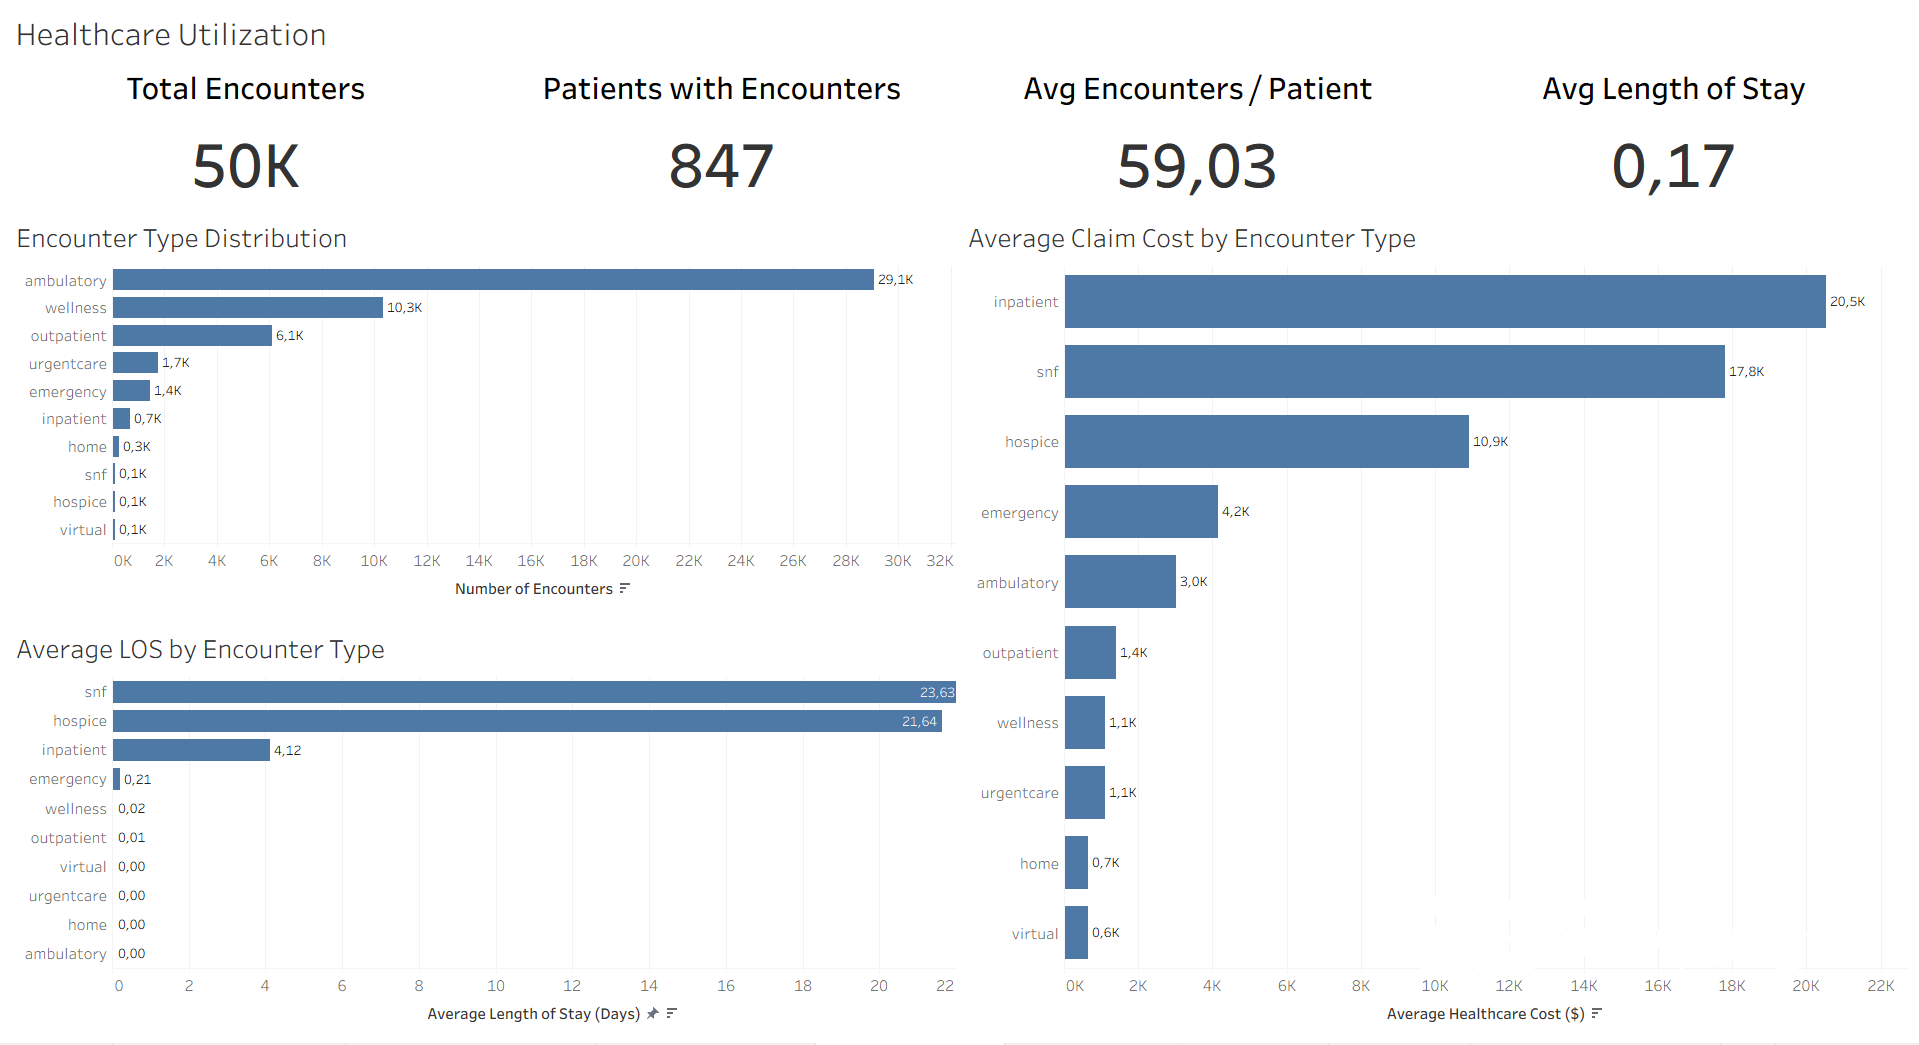

The page's visual inventory and layout, read from the dashboard file:
{"tool":"tableau","page":{"name":"Healthcare Utilization","canvas":[1000,1000],"units":"permille","ordinal":1},"visuals":[{"type":"title","box":[4.8,9.4,990.3,58.8]},{"type":"worksheet","title":"KPI - Total Encounters","mark":"Automatic","box":[4.8,68.2,248,181]},{"type":"worksheet","title":"KPI - Patients with Encounters","mark":"Text","box":[252.9,68.2,247.4,181]},{"type":"worksheet","title":"KPI - Average Encounters per Patient","mark":"Automatic","box":[500.3,68.2,247.4,181]},{"type":"worksheet","title":"KPI - Average Length of Stay","mark":"Automatic","box":[747.7,68.2,247.4,181]},{"type":"worksheet","title":"Encounter Type Distribution","mark":"Automatic","rows":["encounter_class"],"cols":["encounter_count"],"box":[4.8,249.1,495.2,370.7]},{"type":"worksheet","title":"Average Claim Cost by Encounter Type","mark":"Automatic","rows":["encounter_class"],"cols":["avg_claim_cost"],"box":[500,249.1,495.2,741.5]},{"type":"worksheet","title":"Average LOS by Encounter Type","mark":"Automatic","rows":["encounter_class"],"cols":["avg_length_of_stay"],"box":[4.8,619.8,495.2,370.8]}]}

Visuals, with their boxes on the dashboard's canvas, which has no fixed pixel size, in thousandths of its width and height (x1, y1, x2, y2). These are canvas units, not pixel positions in the 1919x1045 screenshot, which may show the page scaled, cropped or inside an application window:
title: (5,9,995,68)
"KPI - Total Encounters" worksheet: (5,68,253,249)
"KPI - Patients with Encounters" worksheet (Text marks): (253,68,500,249)
"KPI - Average Encounters per Patient" worksheet: (500,68,748,249)
"KPI - Average Length of Stay" worksheet: (748,68,995,249)
"Encounter Type Distribution" worksheet: (5,249,500,620)
"Average Claim Cost by Encounter Type" worksheet: (500,249,995,991)
"Average LOS by Encounter Type" worksheet: (5,620,500,991)
